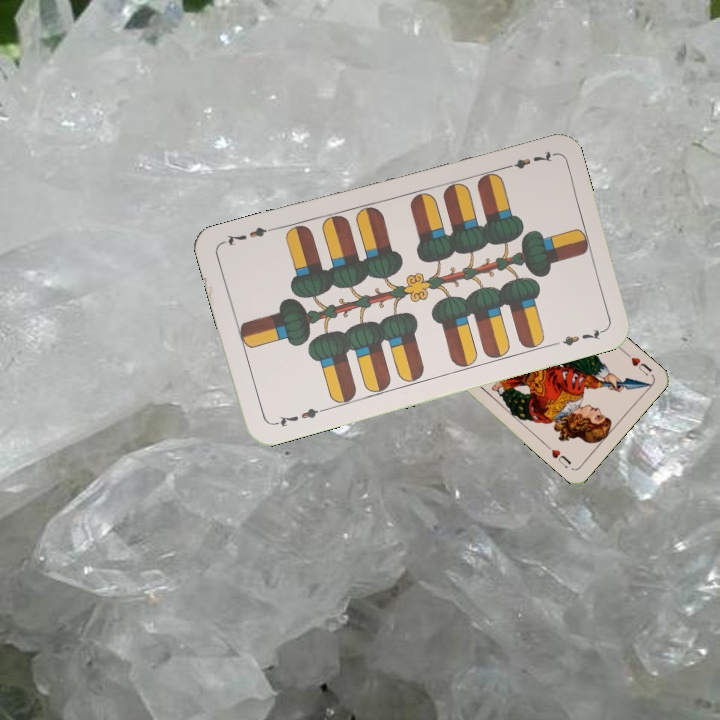E7: (269, 404, 327, 430), (498, 147, 556, 173)
HU: (621, 349, 655, 378)
